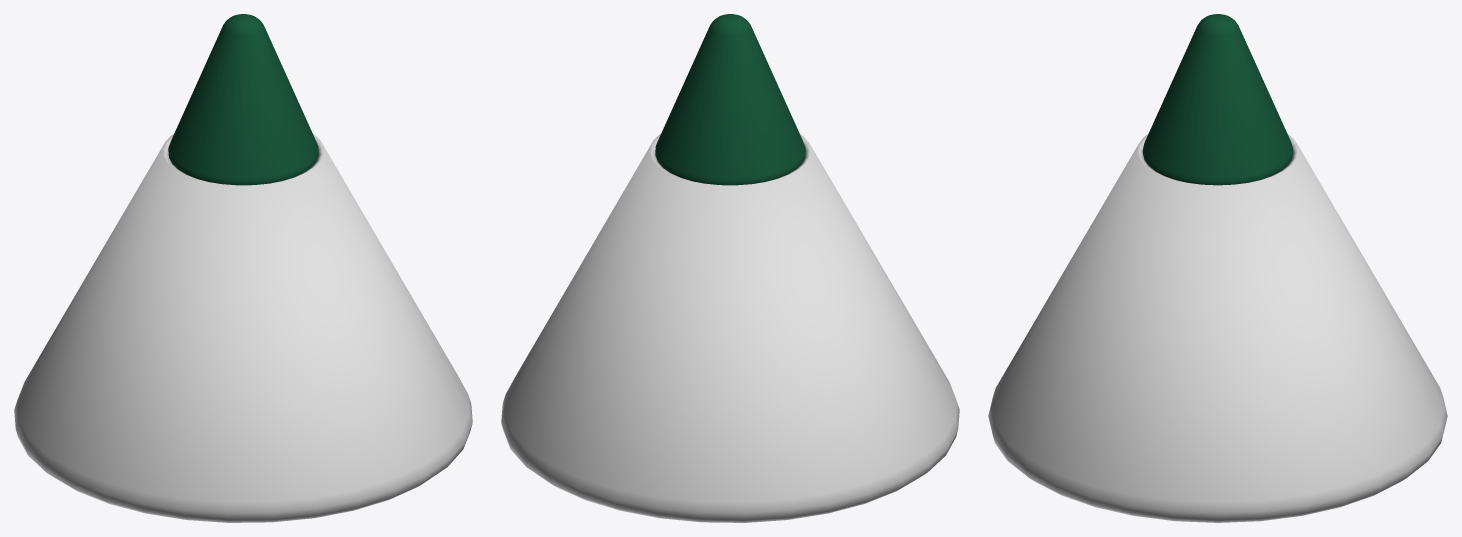
Rendered from iksir şişesi 2.fbx.
The picture shows the model from 3 angles, left to right: view 1: azimuth 30°, elevation 25°; view 2: azimuth 150°, elevation 25°; view 3: azimuth 270°, elevation 25°; orthographic projection.
Visible parts, largest first — view 1: Circle, Circle.001; view 2: Circle, Circle.001; view 3: Circle, Circle.001.
Boxes of the visible parts, box(x1,y1,x2,y2) form: Circle: box(14, 133, 472, 522); Circle.001: box(168, 14, 318, 185); Circle: box(501, 133, 959, 522); Circle.001: box(655, 14, 805, 185); Circle: box(988, 134, 1447, 522); Circle.001: box(1142, 14, 1293, 185).
Bounding box in the file's own units: 191 × 190 × 191.
